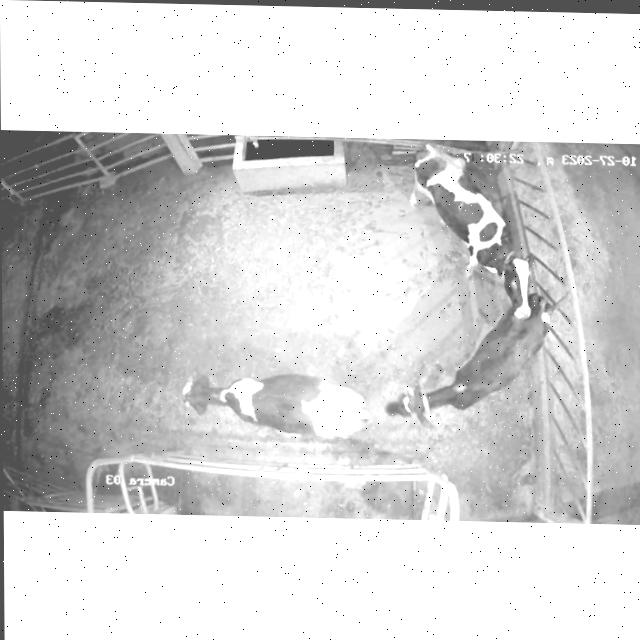propping: (475, 246, 553, 337)
